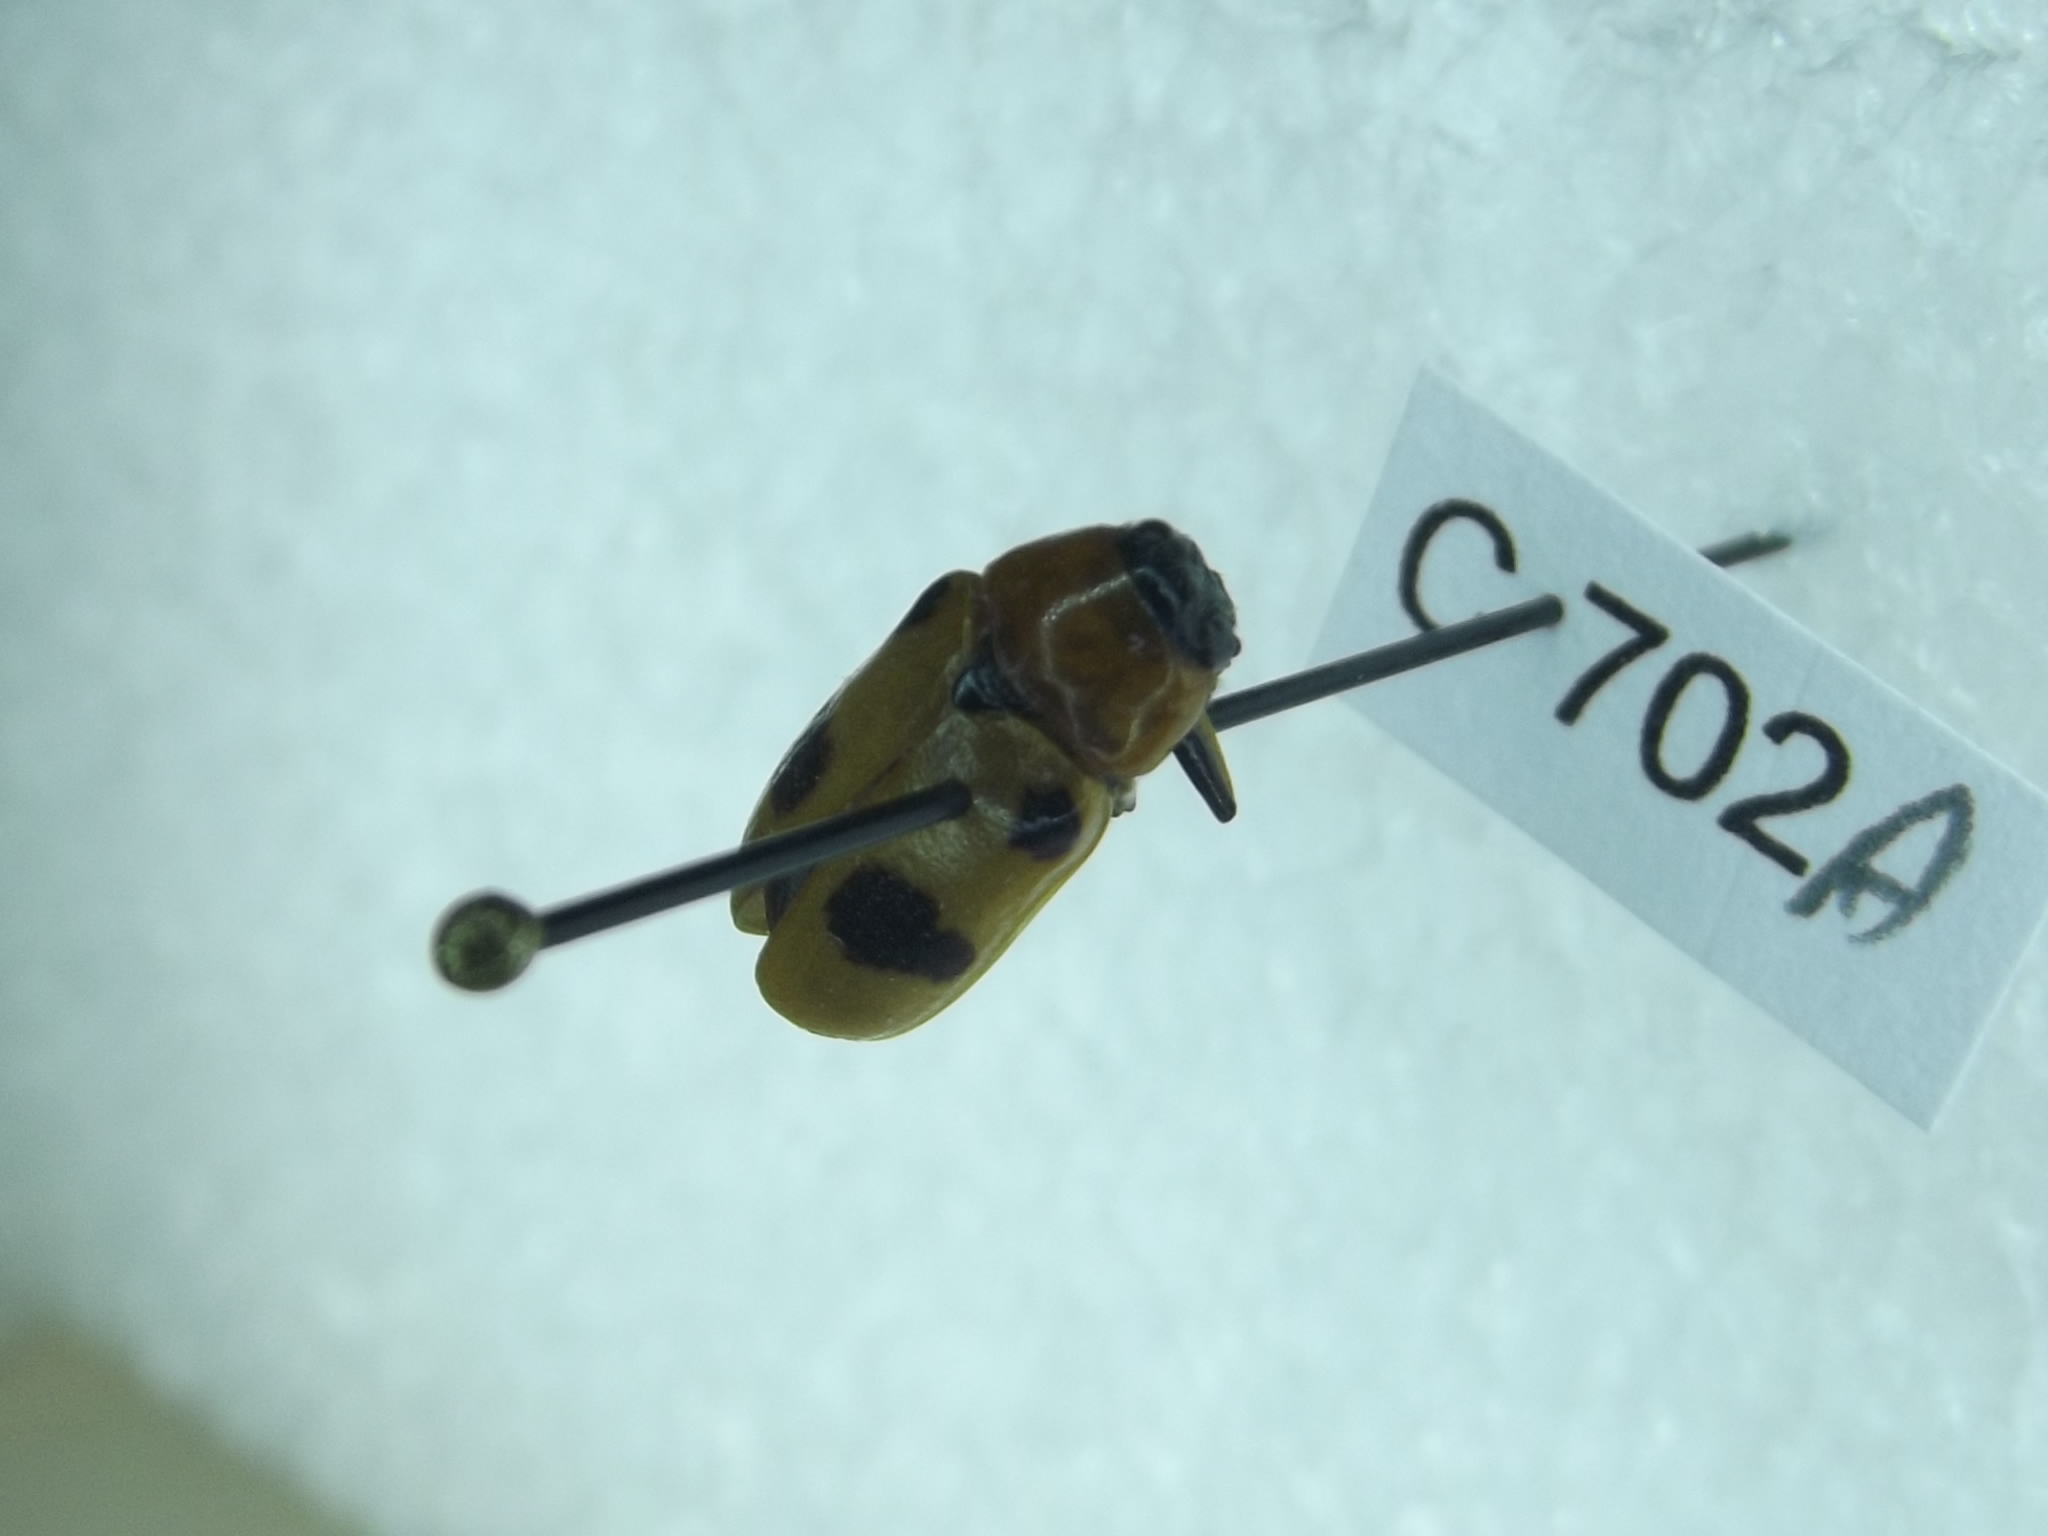Tituboea_macropus: (718, 502, 1258, 1055)
